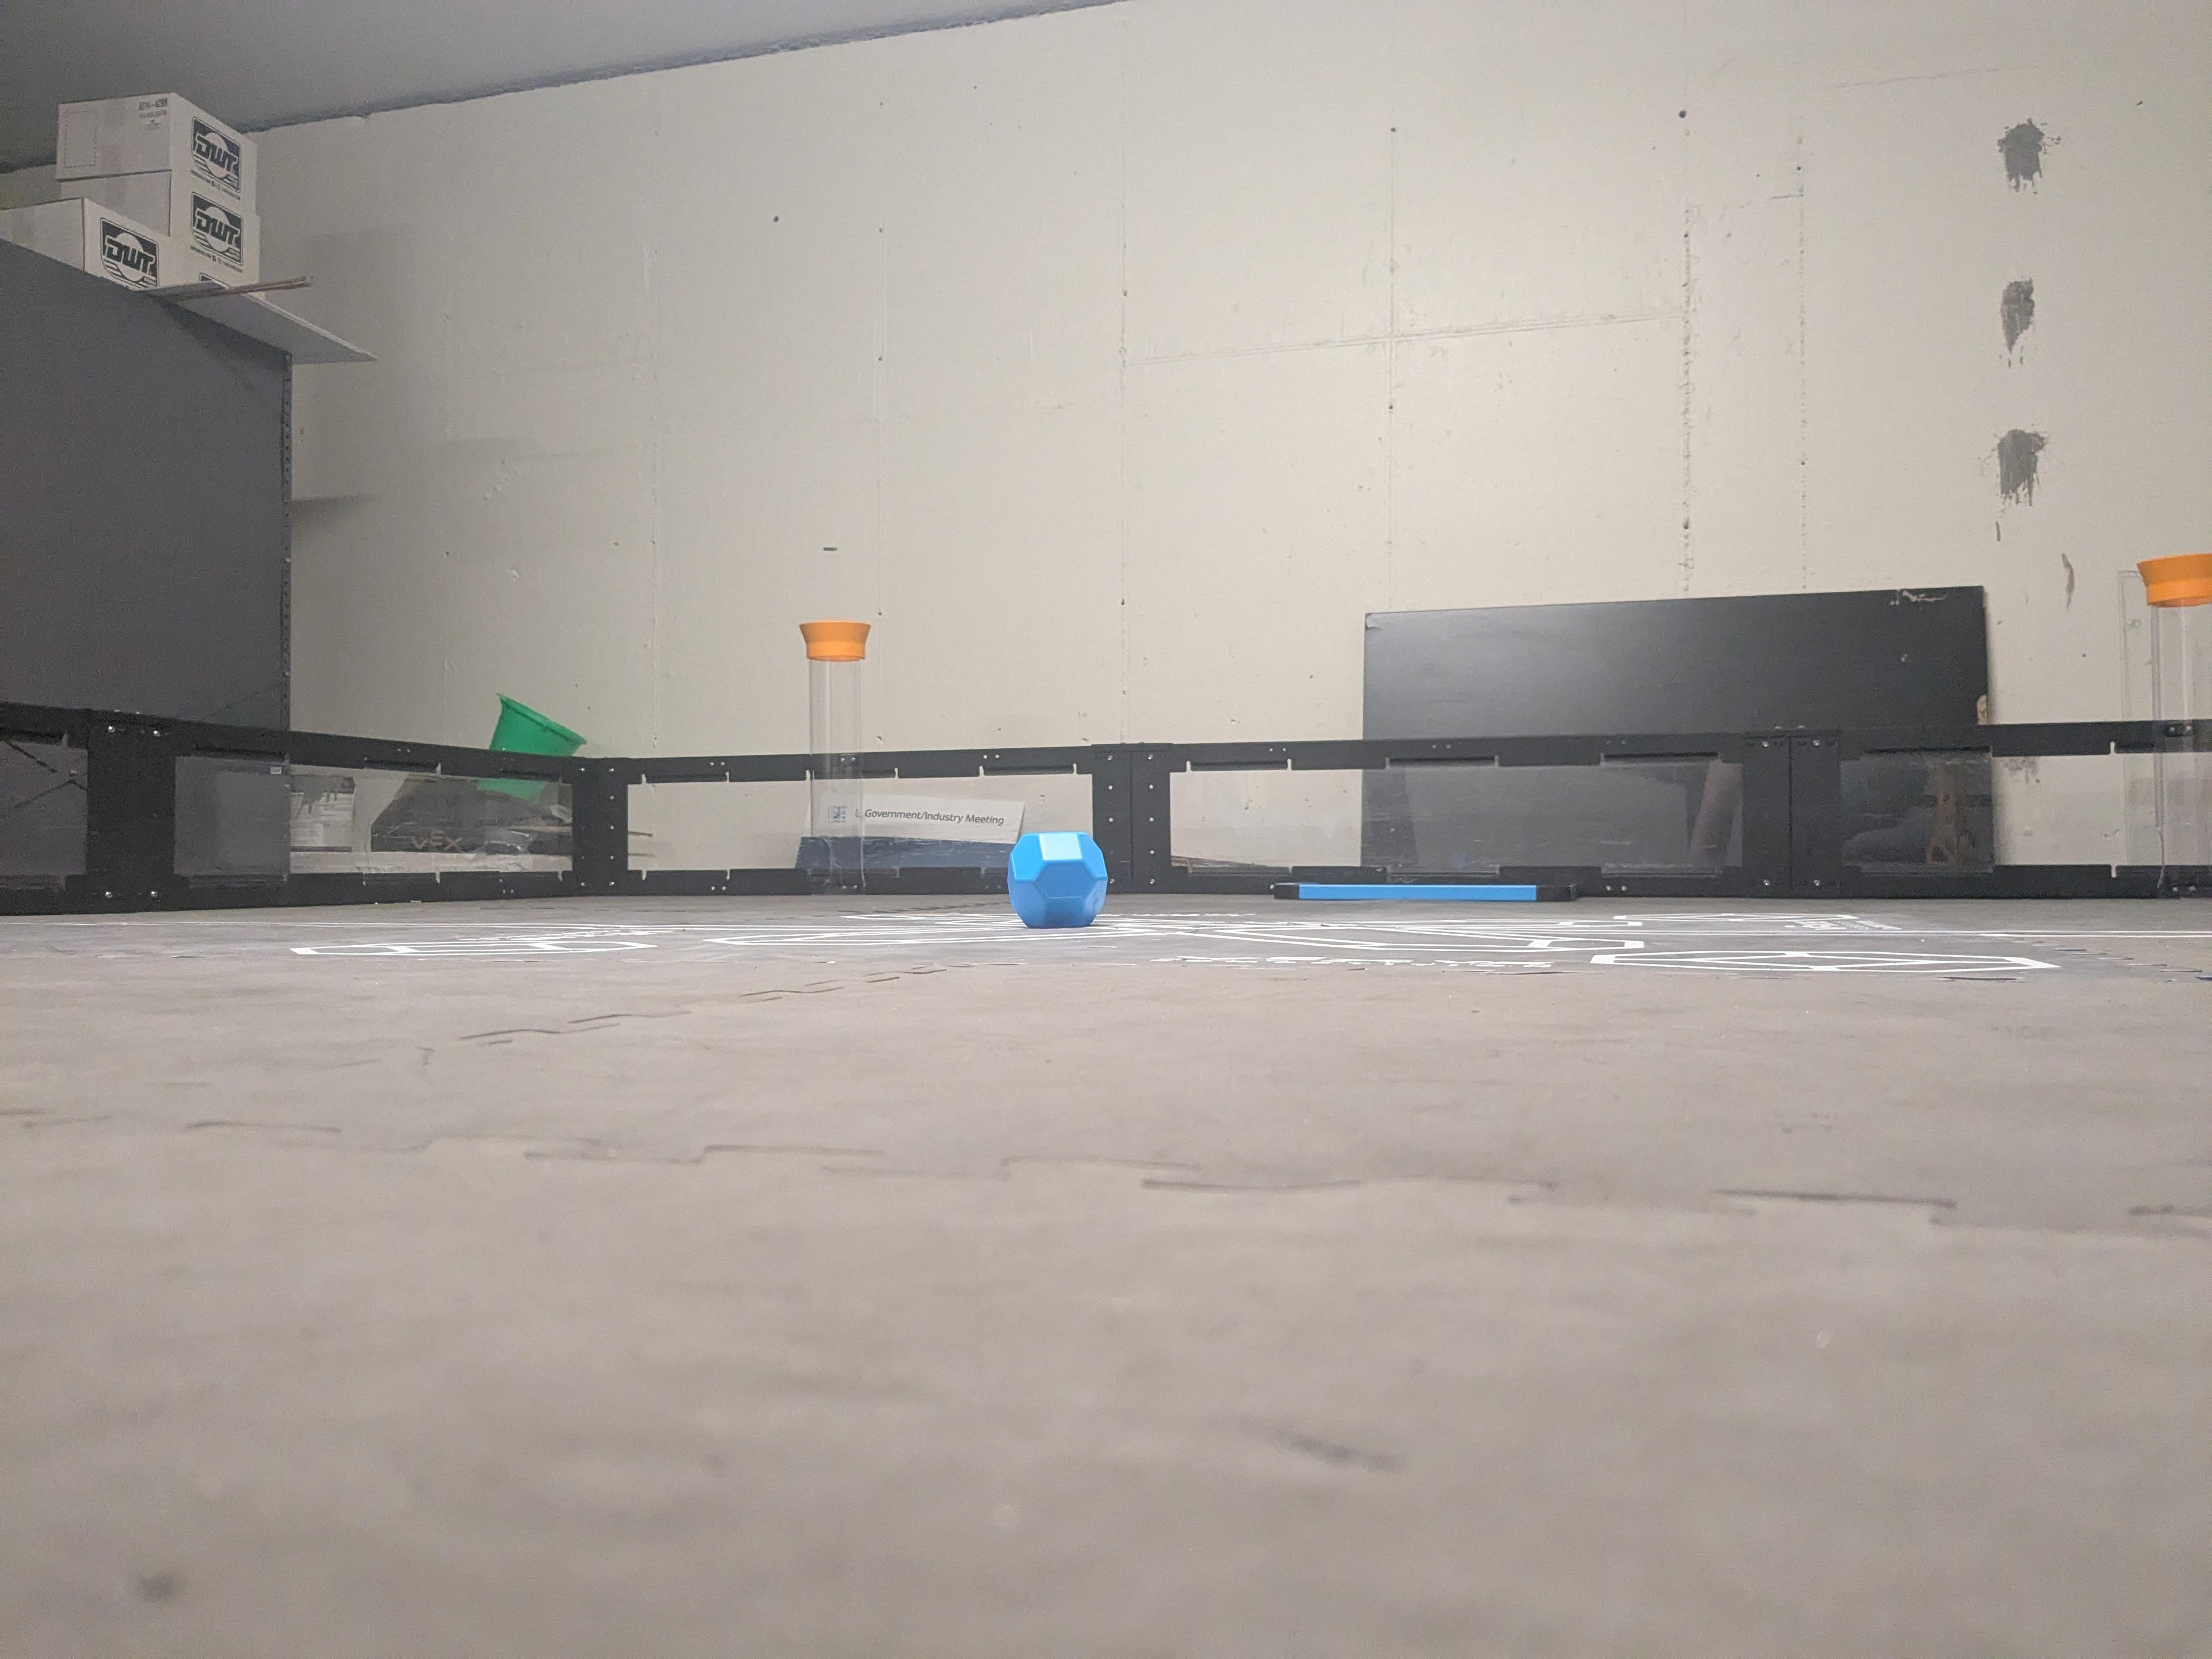Vex-Pieces-BLUE: (1005, 831, 1106, 931)
